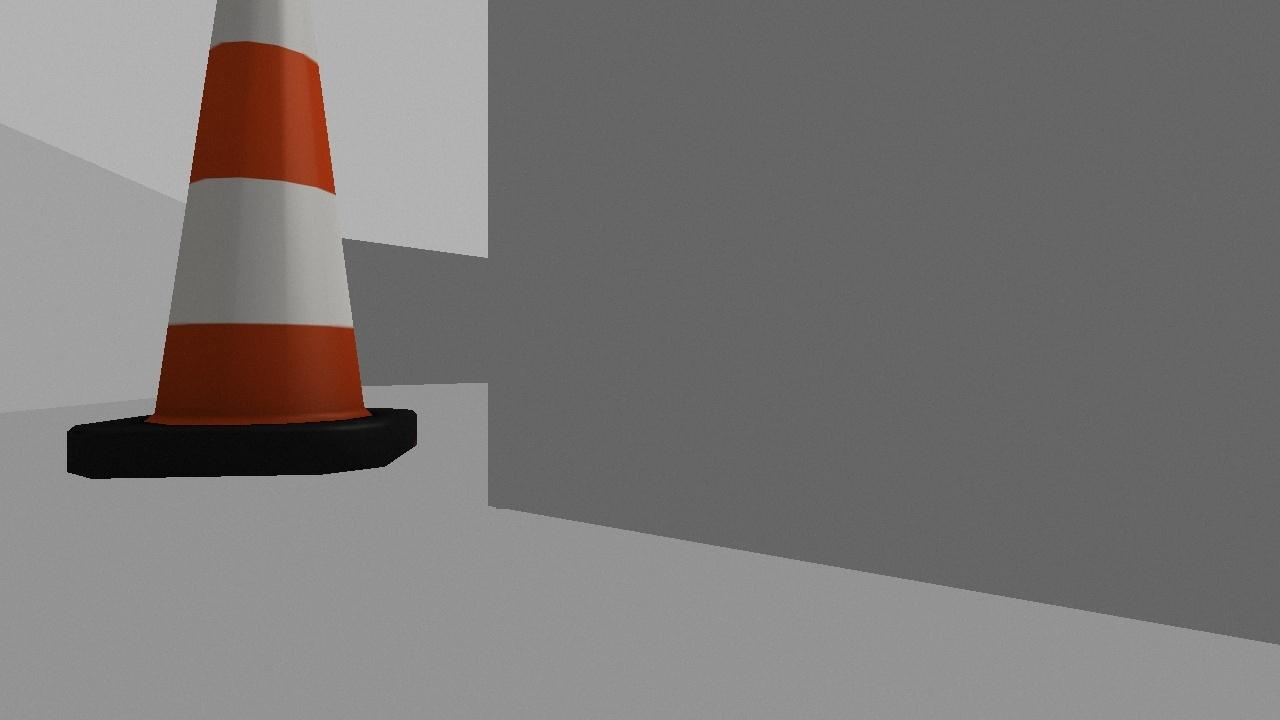cone_barrel: (65, 0, 418, 479)
